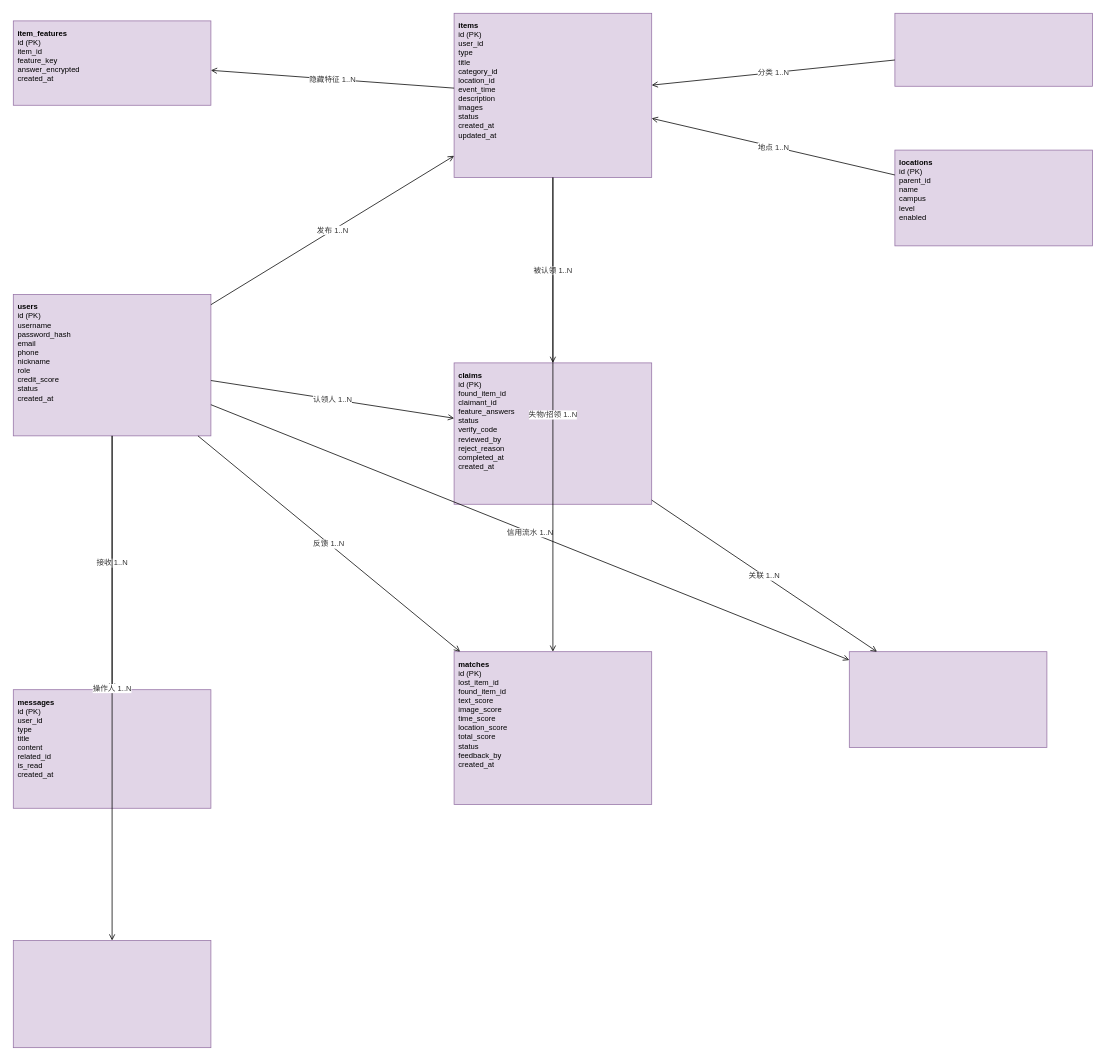
Image size: 1106x1061. Some labels were removed from this diagram. Each missing label, with the centre of its shape:
"audit_logs id (PK) operator_id action target_type target_id detail created_at" belongs at [112,994].
"categories id (PK) name sort enabled" belongs at [993,49].
"credit_logs id (PK) user_id delta reason claim_id created_at" belongs at [948,699].
